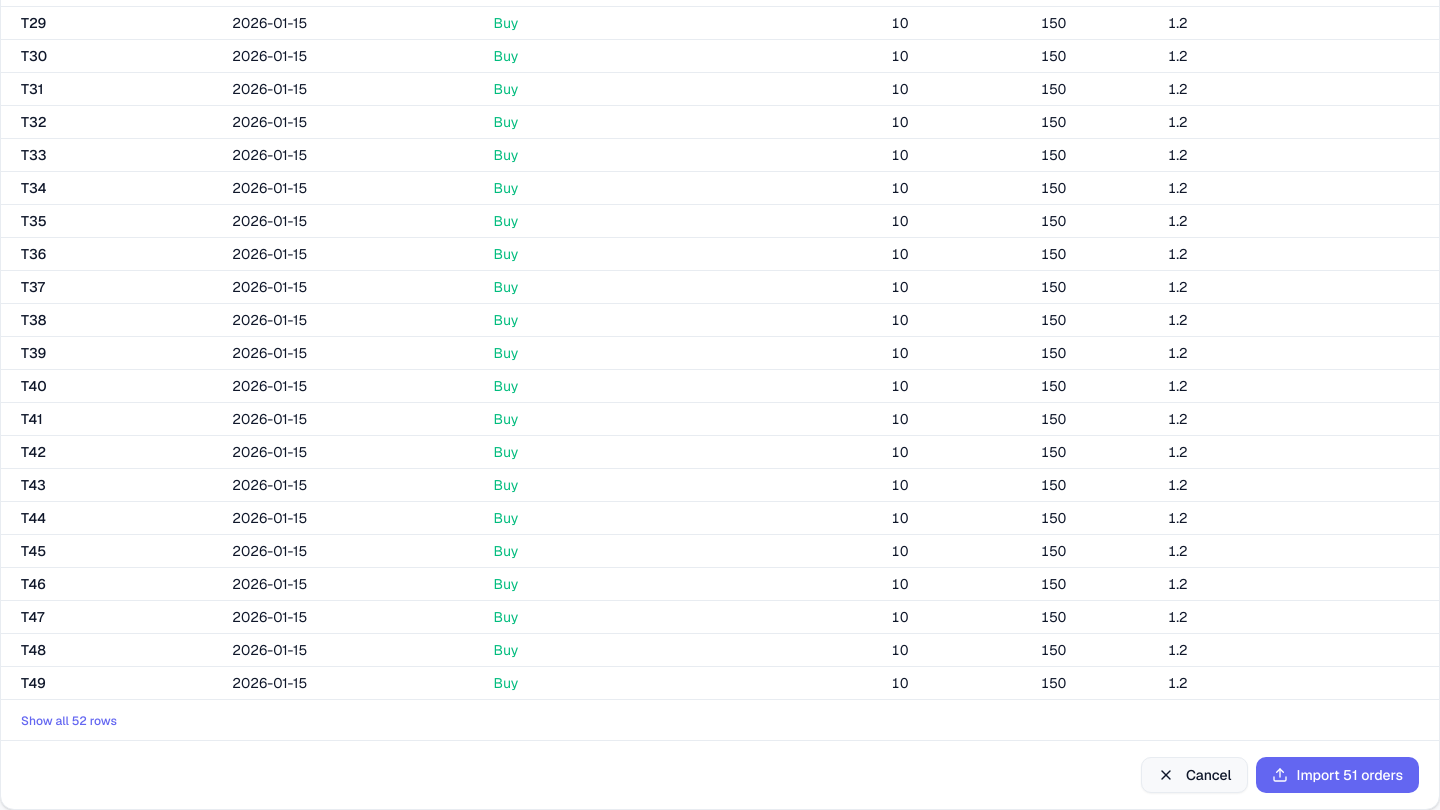
Test: AssetImportPanel refused rows › keeps a refusal past the first page of the table one click away
The width and height of the screenshot is (1440, 810).
Earlier steps of the test are not shown.
(page scrolled)
Expected: the text "#99" is not shown
Click the button "Show all 52 rows".
click(69, 721)  # box [21, 713, 117, 729]
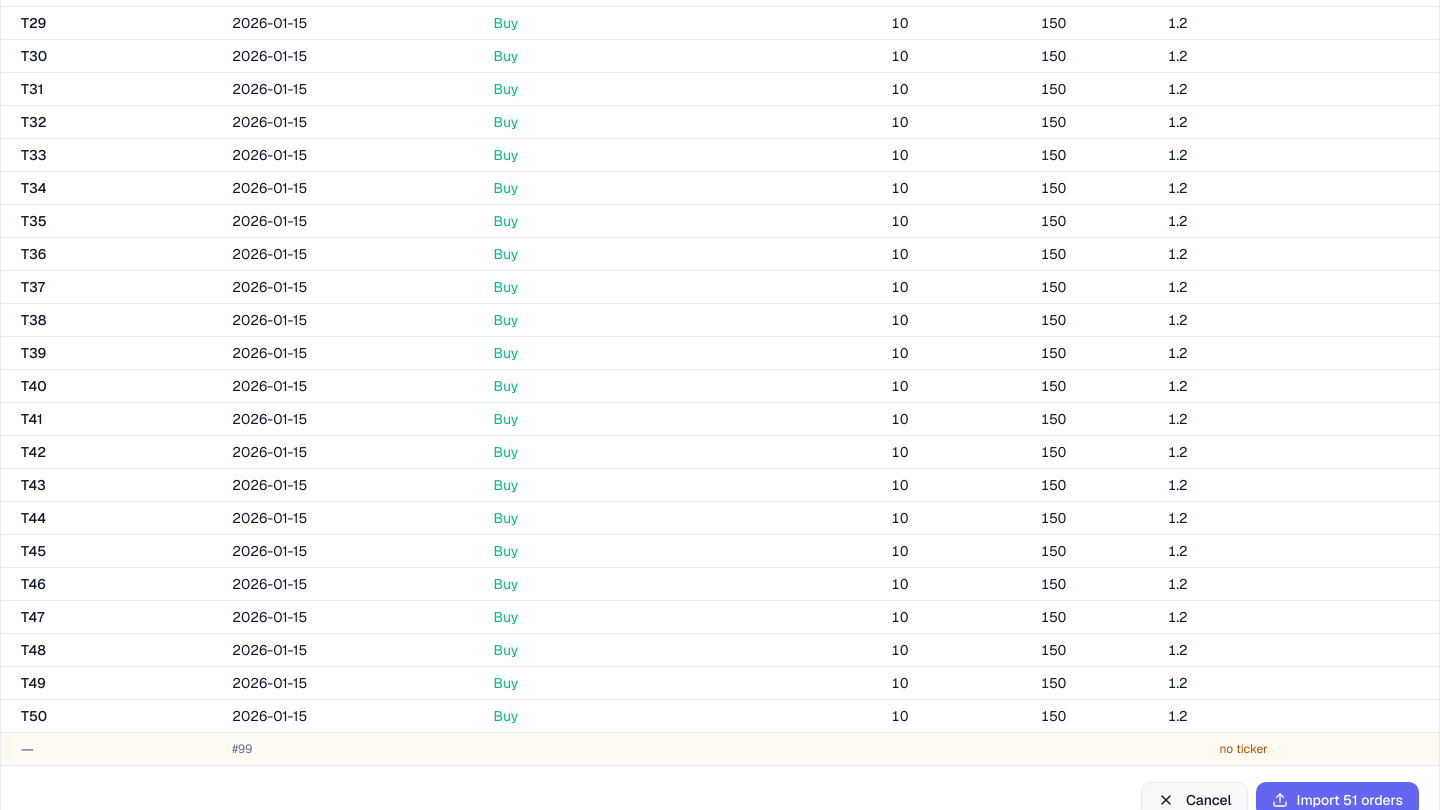
Result: the row "— #99 no ticker" is shown at [1, 732, 1439, 765]
